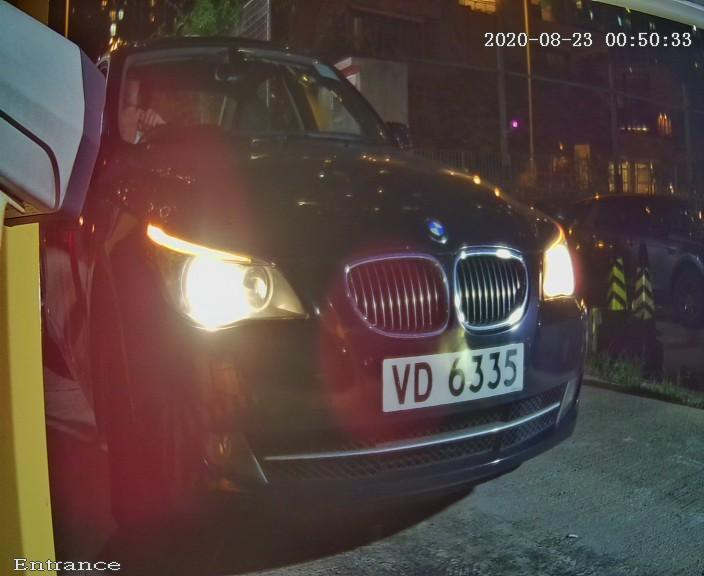Car: (1, 21, 642, 535)
License Plate: (347, 307, 544, 430)
